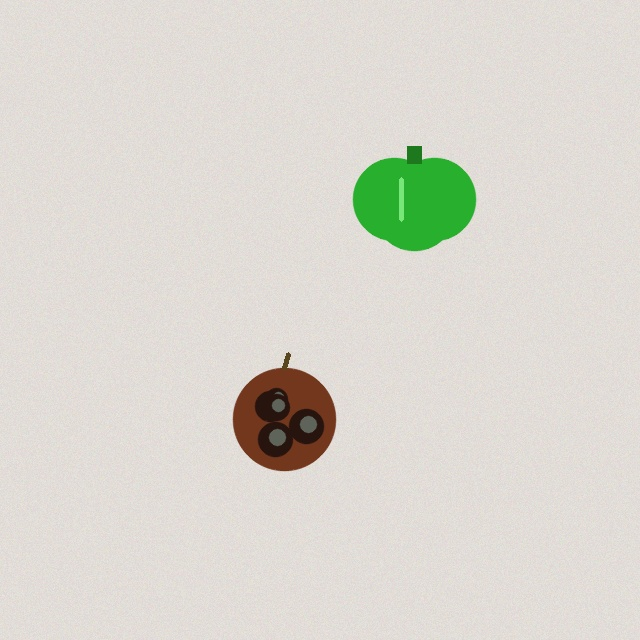Fresh bell pepper: (353, 146, 475, 250)
Rotten apple: (233, 354, 335, 470)
